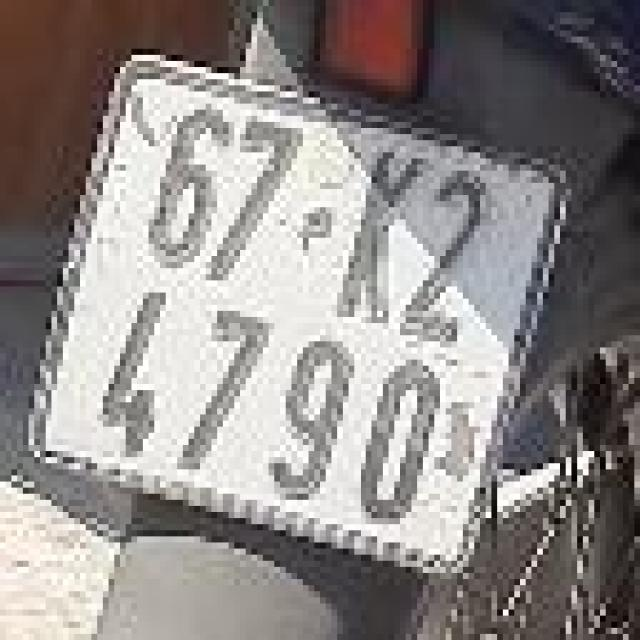0: (345, 348, 469, 531)
2: (387, 160, 530, 368)
4: (83, 276, 205, 468)
6: (137, 95, 246, 281)
7: (162, 292, 293, 486), (197, 109, 321, 298)
9: (256, 319, 372, 518)
K: (325, 134, 449, 337)
